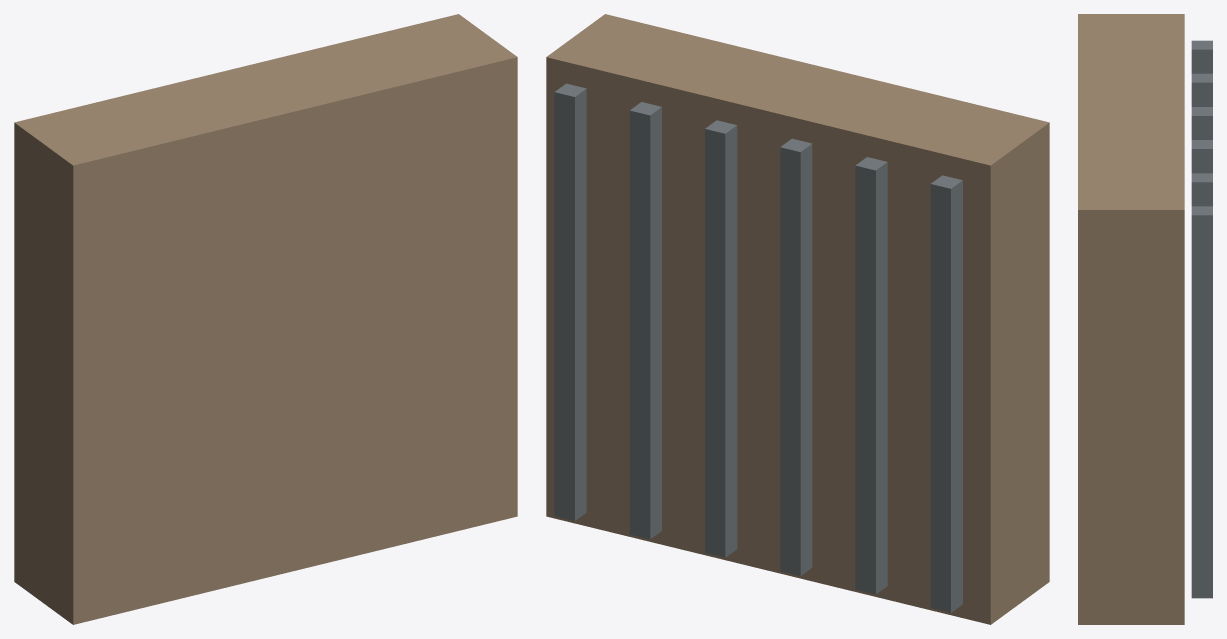
Rendered from iz2_gear_headlamp.glb.
3 views of the same model, side by side, from view 1: azimuth 30°, elevation 25°; view 2: azimuth 150°, elevation 25°; view 3: azimuth 270°, elevation 25° (orthographic). The views are drawn at different scales.
Visible parts, largest first — view 1: body; view 2: body; view 3: body.
Part boxes in pixels (x1,y1,x2,y2): body: (14, 14, 517, 624); body: (546, 14, 1049, 624); body: (1078, 14, 1212, 624).
Bounding box in the file's own units: 1.31 × 1.29 × 0.38.
